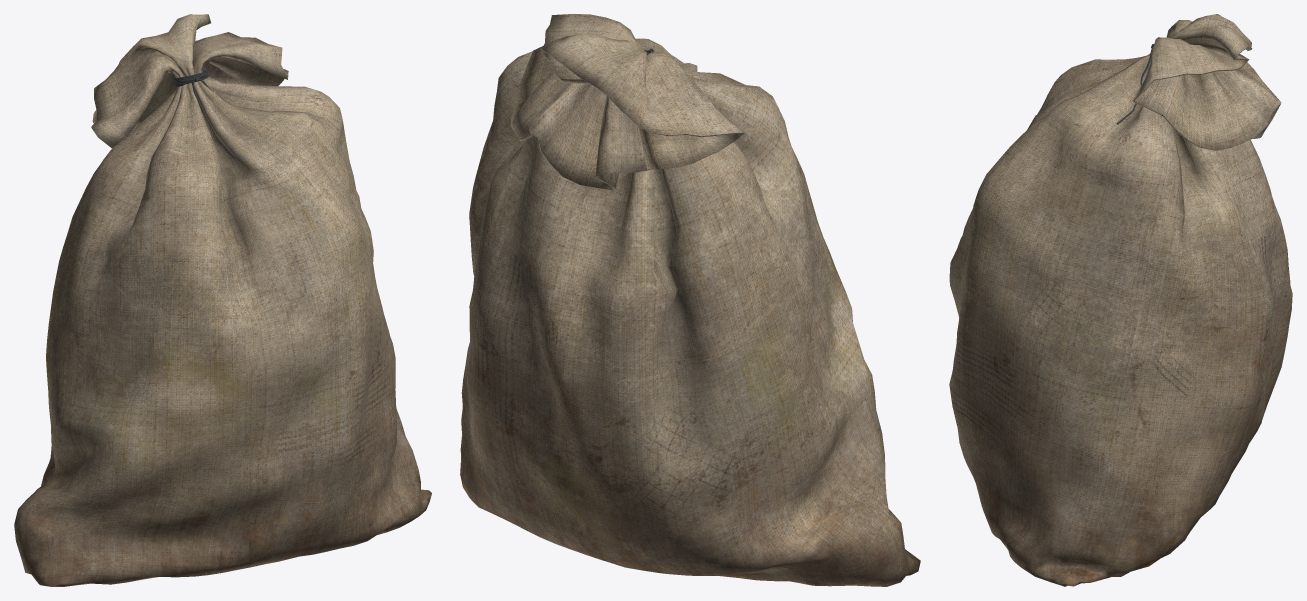
The model's file is Sack.fbx.
The picture shows the model from 3 angles, left to right: view 1: azimuth 30°, elevation 25°; view 2: azimuth 150°, elevation 25°; view 3: azimuth 270°, elevation 25°; orthographic projection. The views are drawn at different scales.
Parts seen in each view (by area): view 1: sack_Material_0.001; view 2: sack_Material_0.001; view 3: sack_Material_0.001.
Part boxes in pixels (box(x1,y1,x2,y2)): sack_Material_0.001: box(14, 14, 431, 586); sack_Material_0.001: box(460, 14, 920, 586); sack_Material_0.001: box(949, 14, 1292, 586).
Bounding box in the file's own units: 67.87 × 77.56 × 50.56.
